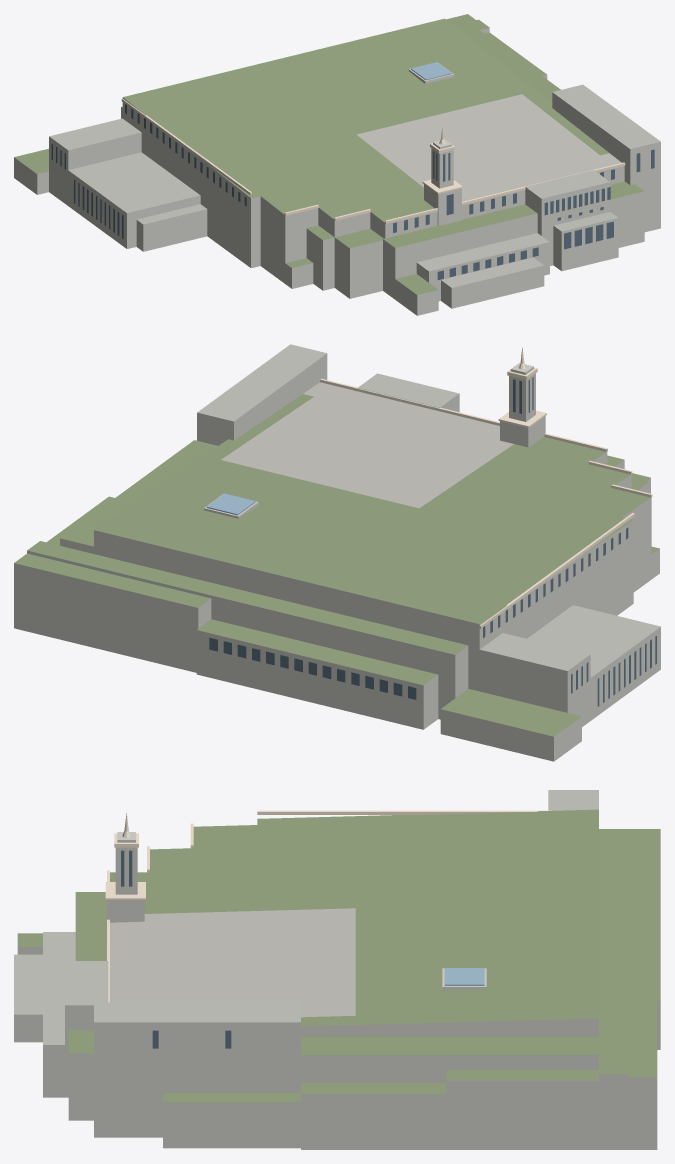
File: slc-conference-center.glb
3 views of the same model, one above another, from view 1: azimuth 30°, elevation 25°; view 2: azimuth 150°, elevation 25°; view 3: azimuth 270°, elevation 25° (orthographic). The views are drawn at different scales.
Parts seen in each view (by area): view 1: Conference Center; view 2: Conference Center; view 3: Conference Center.
Part boxes in pixels (x1,y1,x2,y2): Conference Center: [14, 14, 660, 315]; Conference Center: [14, 344, 660, 761]; Conference Center: [14, 790, 660, 1149].
Size of the model in its own units: 191 by 58 by 178.
